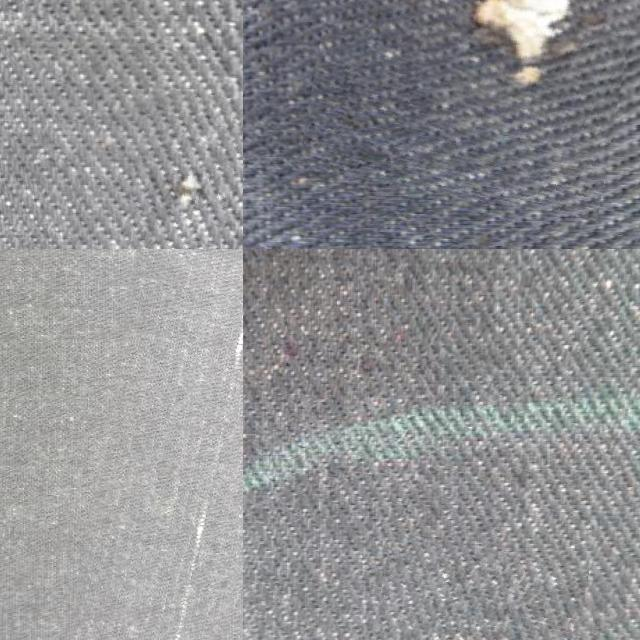Thread_other: (311, 0, 640, 209), (77, 249, 243, 640), (353, 539, 578, 640), (119, 88, 235, 249)
